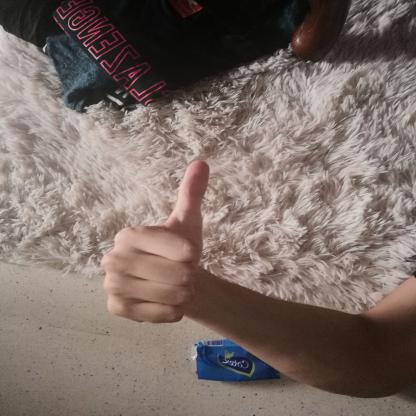ALIF: (90, 149, 231, 334)
